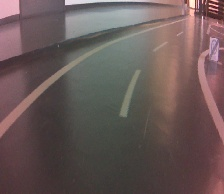zone 30 stop sign: (207, 35, 220, 63)
